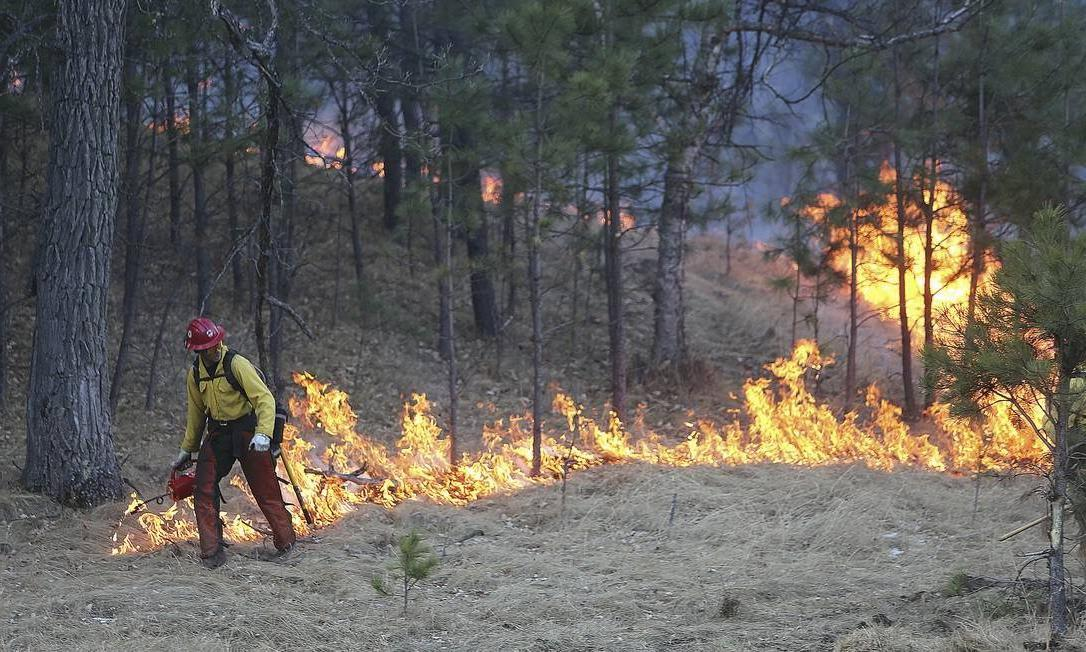Fire: (105, 341, 735, 566), (742, 145, 1070, 475), (306, 133, 391, 178), (476, 171, 509, 212), (598, 208, 637, 242)
